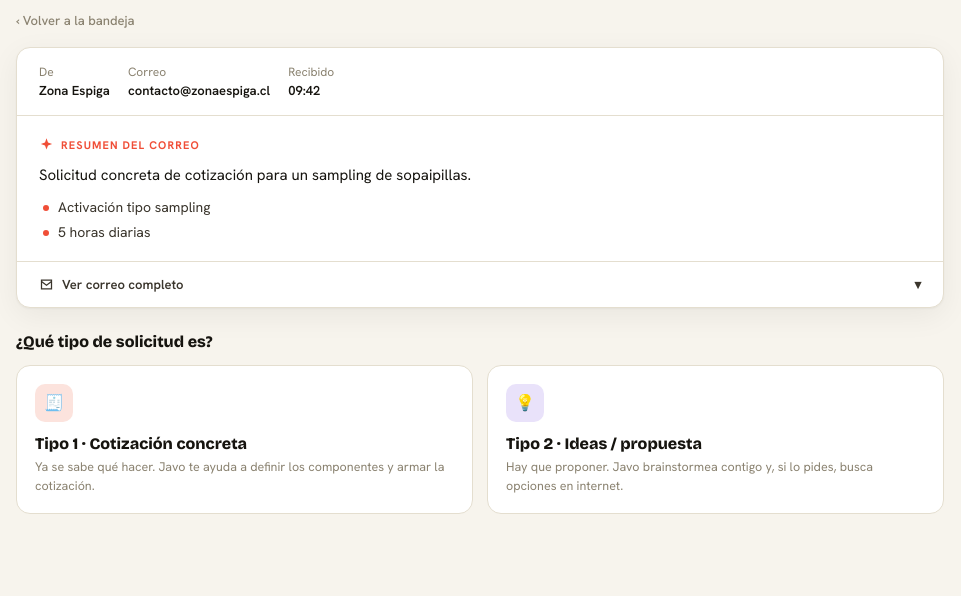
Scenario: DetalleSolicitud › oculta el correo completo hasta que se pide verlo
The image size is (961, 596).
Expected: the text "Quedo atenta" is not shown
Click the text "Ver correo completo ▾" at (123, 284), box top-left (39, 276), bottom-right (921, 293)
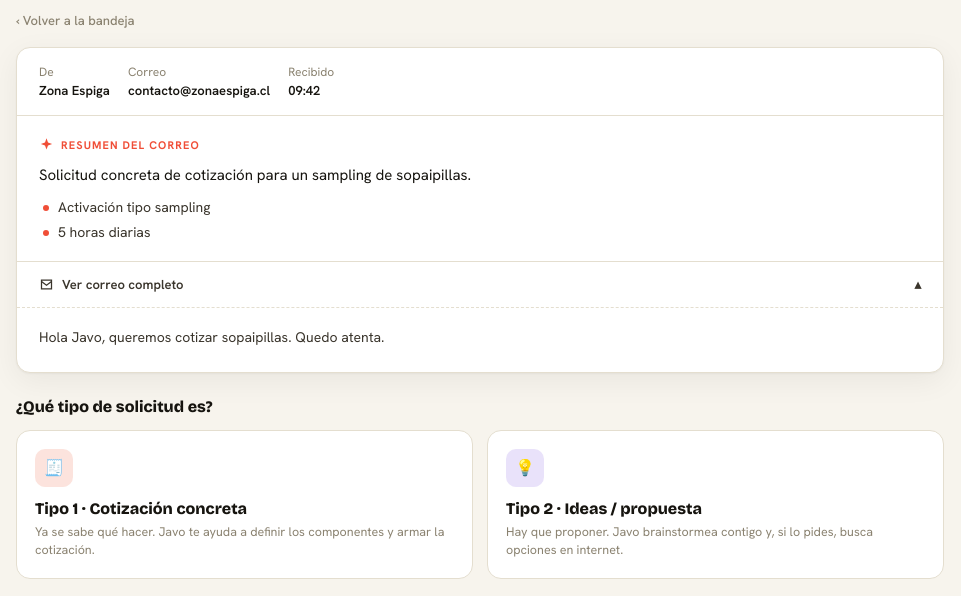
Result: the text "Hola Javo, queremos cotizar sopaipillas. Quedo atenta." is shown at top-left (17, 307), bottom-right (943, 372)
